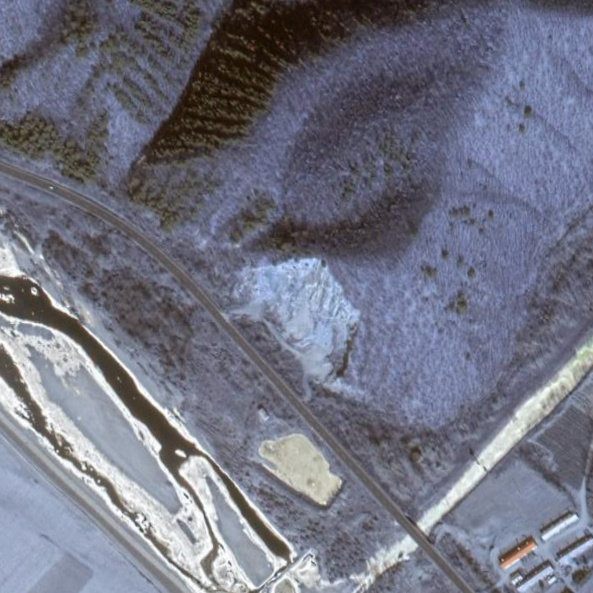slope: (231, 257, 365, 400)
